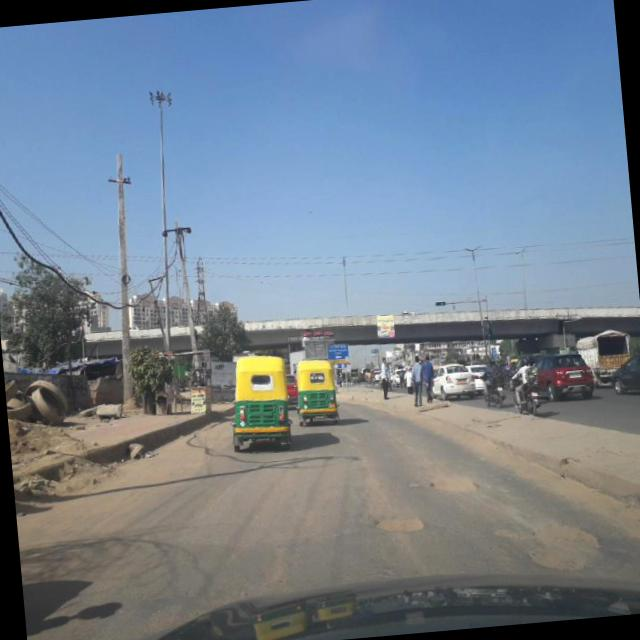pothole: (492, 498, 610, 585), (362, 504, 442, 545), (412, 462, 492, 502)
